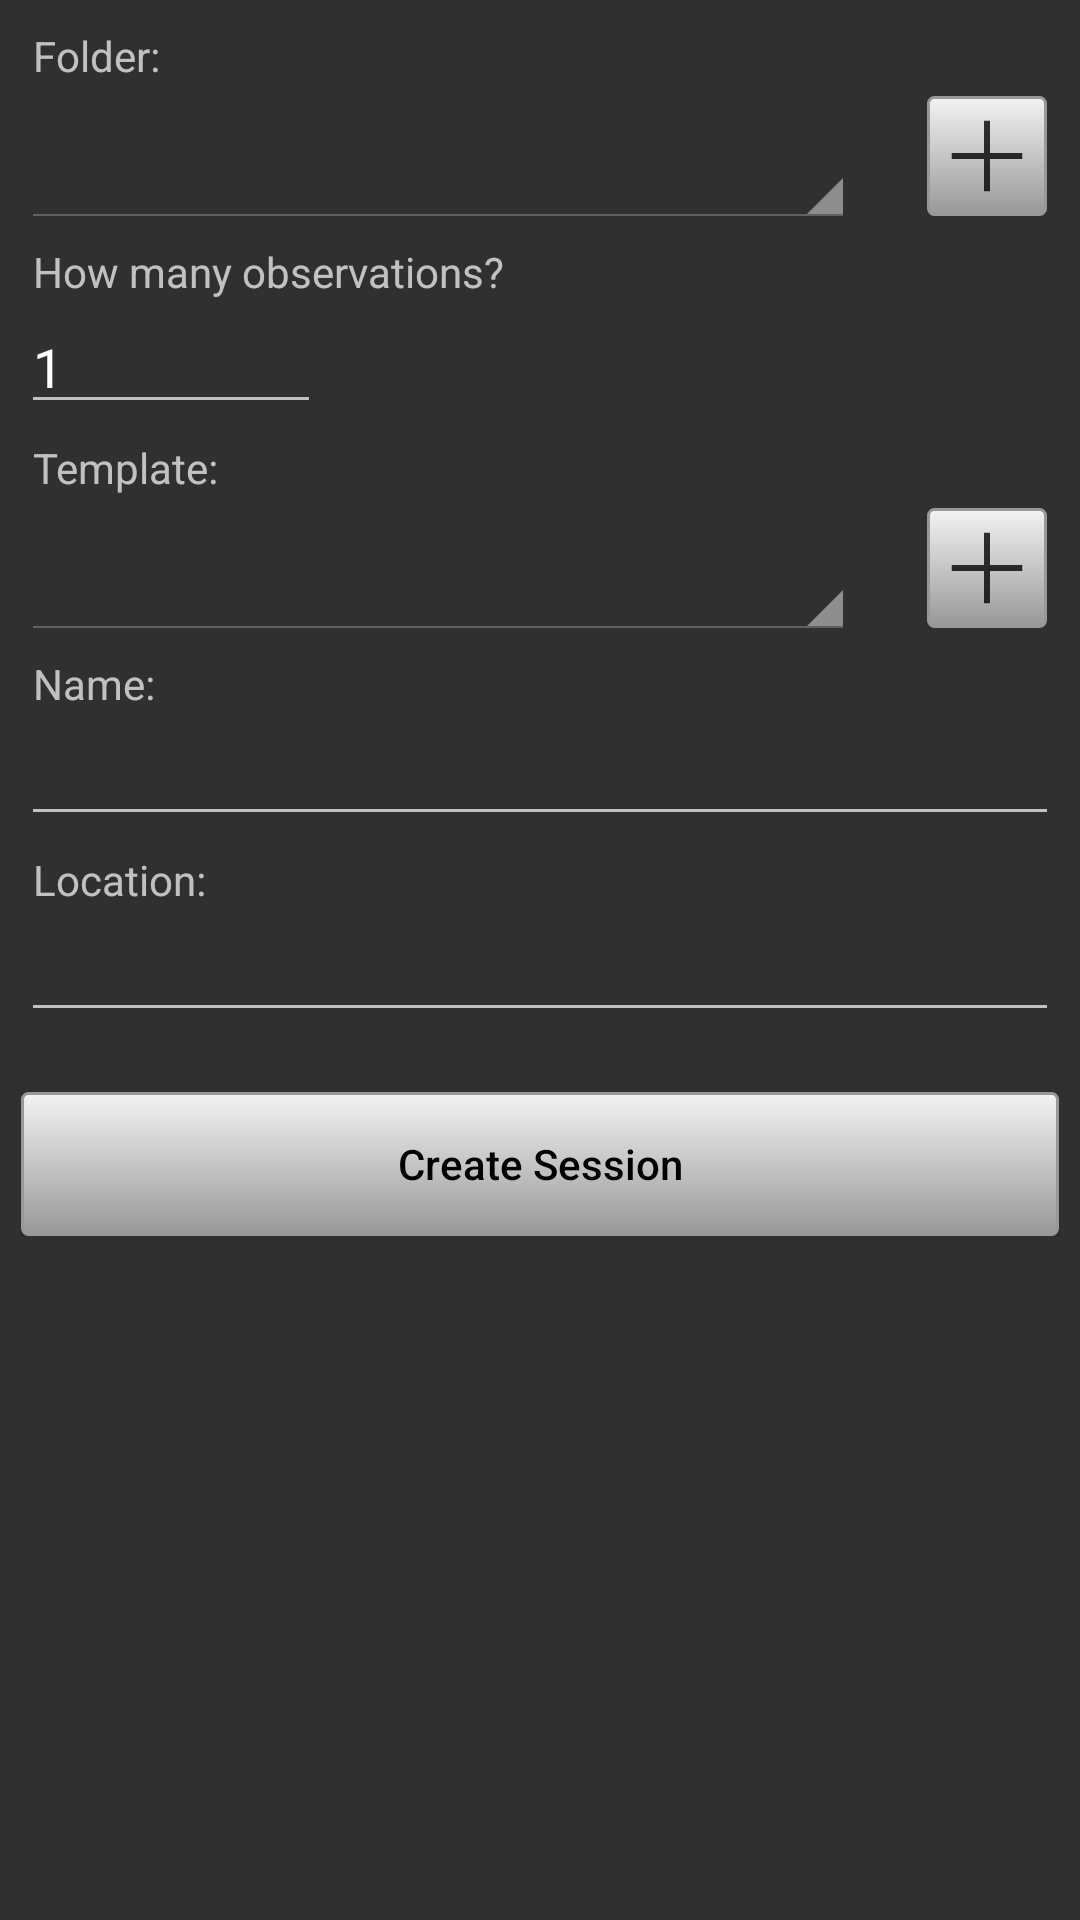

Icon bounding boxes for this 1080w x 1920h phone screenshot, format (x1, y1, x2, y2):
Create new folder: (927, 96, 1047, 216)
Create new template: (927, 508, 1047, 628)
